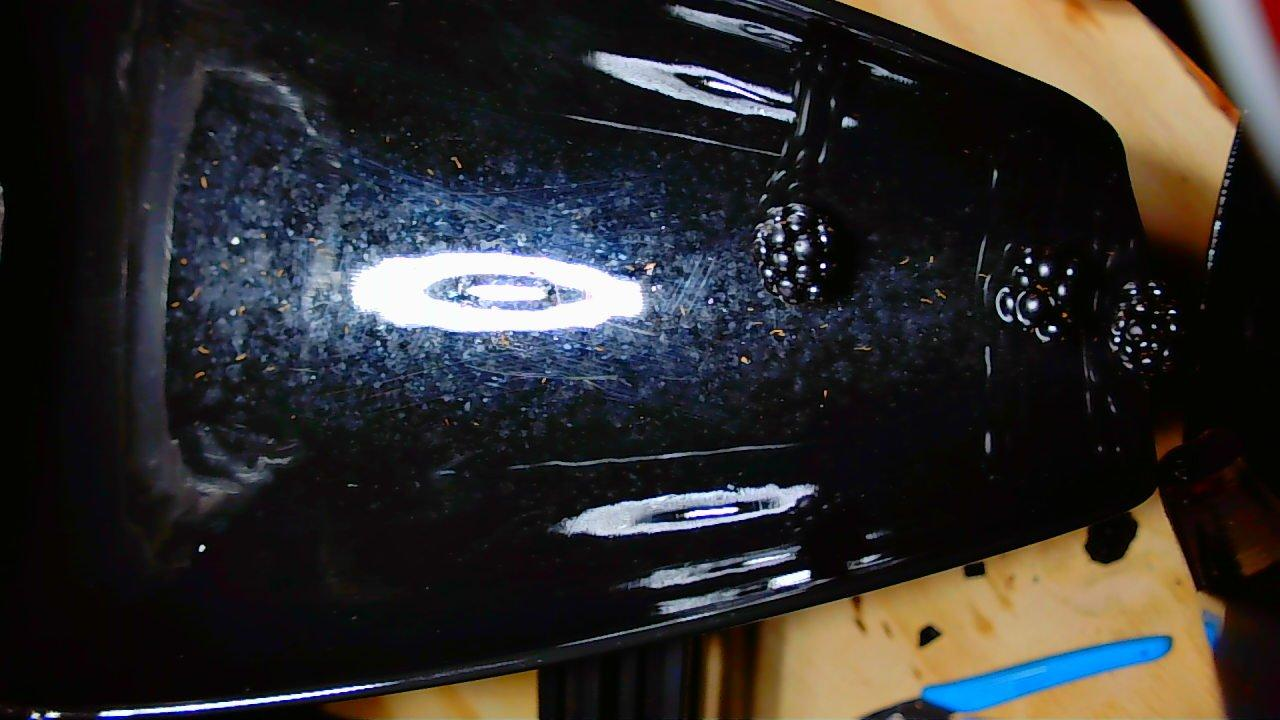berry: (753, 204, 833, 303), (996, 248, 1080, 341), (1108, 281, 1182, 375)
